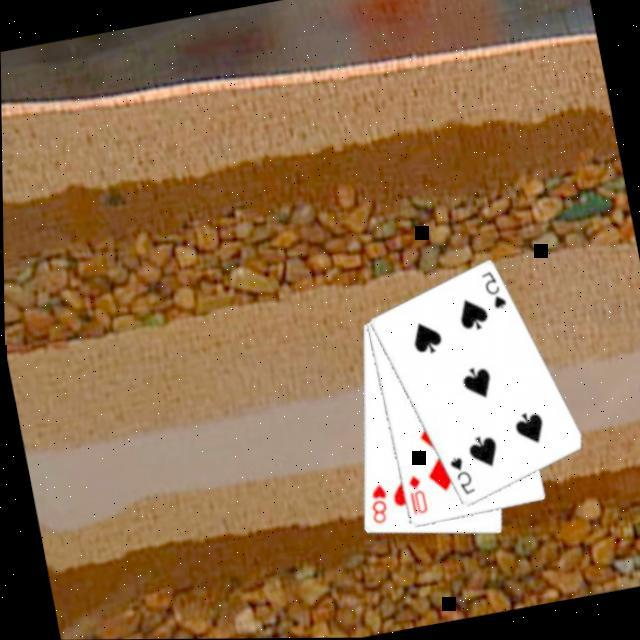10D: (402, 470, 430, 517)
5S: (444, 452, 478, 499), (478, 266, 511, 314)
8H: (362, 479, 394, 526)
